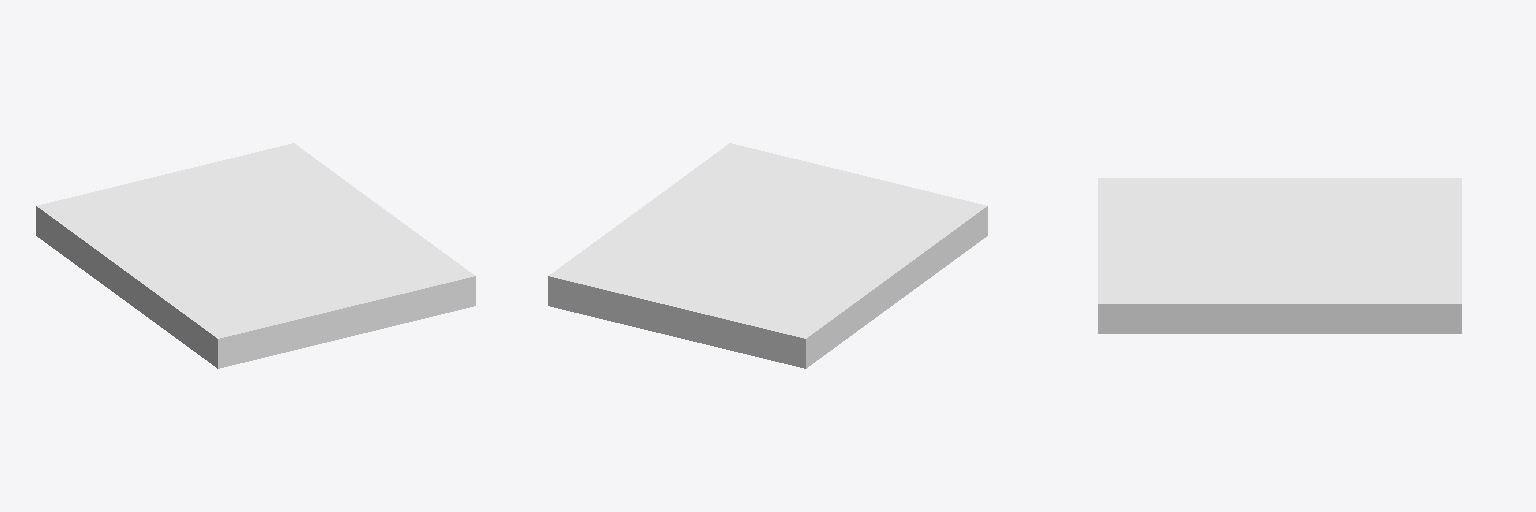
The model's file is parkingarea.obj.
The picture shows the model from 3 angles: view 1: azimuth 30°, elevation 25°; view 2: azimuth 150°, elevation 25°; view 3: azimuth 270°, elevation 25°; orthographic projection.
Size of the model in its own units: 9 by 1 by 11.